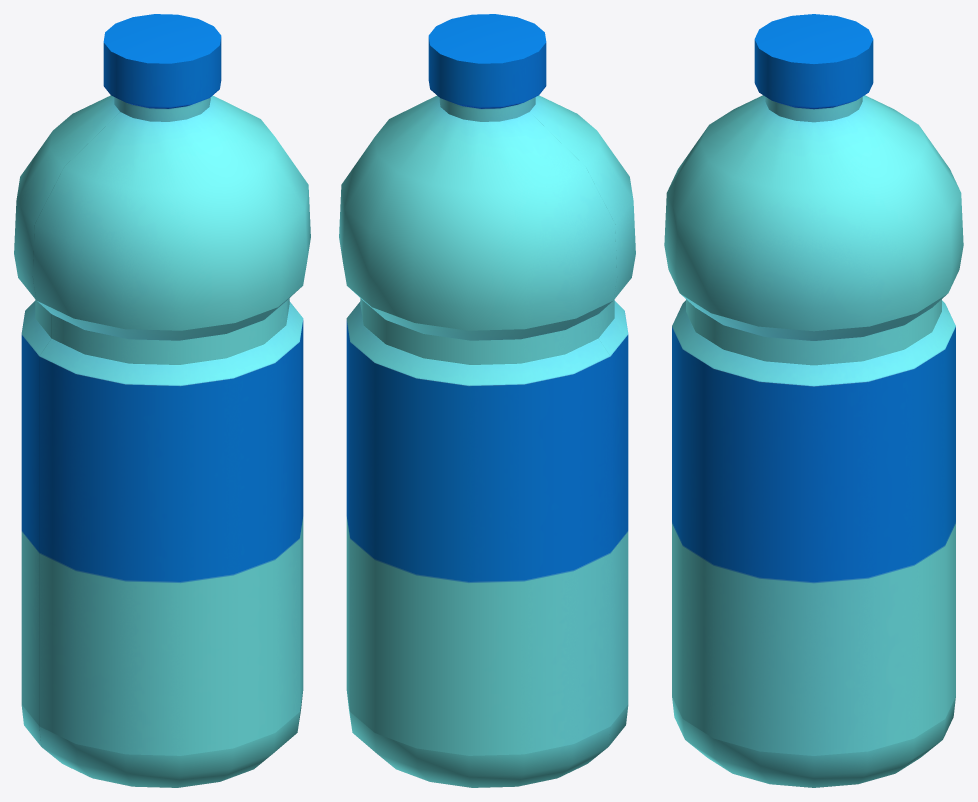
Rendered from plastic_bottle.fbx.
3 views of the same model, side by side, from view 1: azimuth 30°, elevation 25°; view 2: azimuth 150°, elevation 25°; view 3: azimuth 270°, elevation 25° (orthographic).
Parts seen in each view (by area): view 1: plastic_bottle; view 2: plastic_bottle; view 3: plastic_bottle.
Part boxes in pixels (bbox=[...]): plastic_bottle: bbox=[14, 14, 310, 787]; plastic_bottle: bbox=[339, 14, 635, 787]; plastic_bottle: bbox=[664, 14, 963, 787].
Bounding box in the file's own units: 1.06 × 2.76 × 1.06.
Materials: 1 (1 with a texture image).
